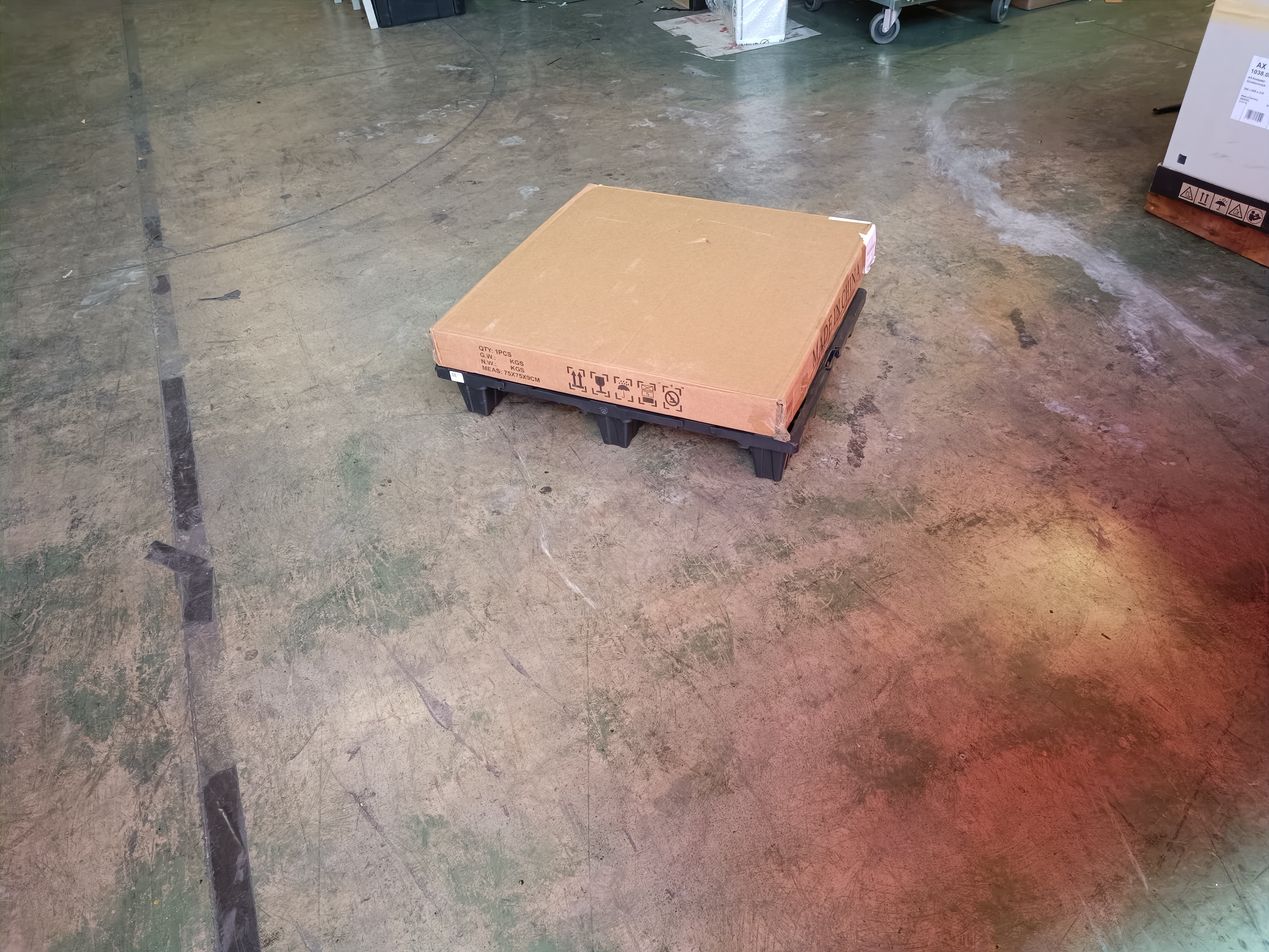block: (453, 381, 504, 417), (591, 415, 640, 450), (750, 449, 786, 478)
front: (430, 365, 793, 495)
hole pallet: (626, 420, 755, 475), (485, 391, 600, 445)
